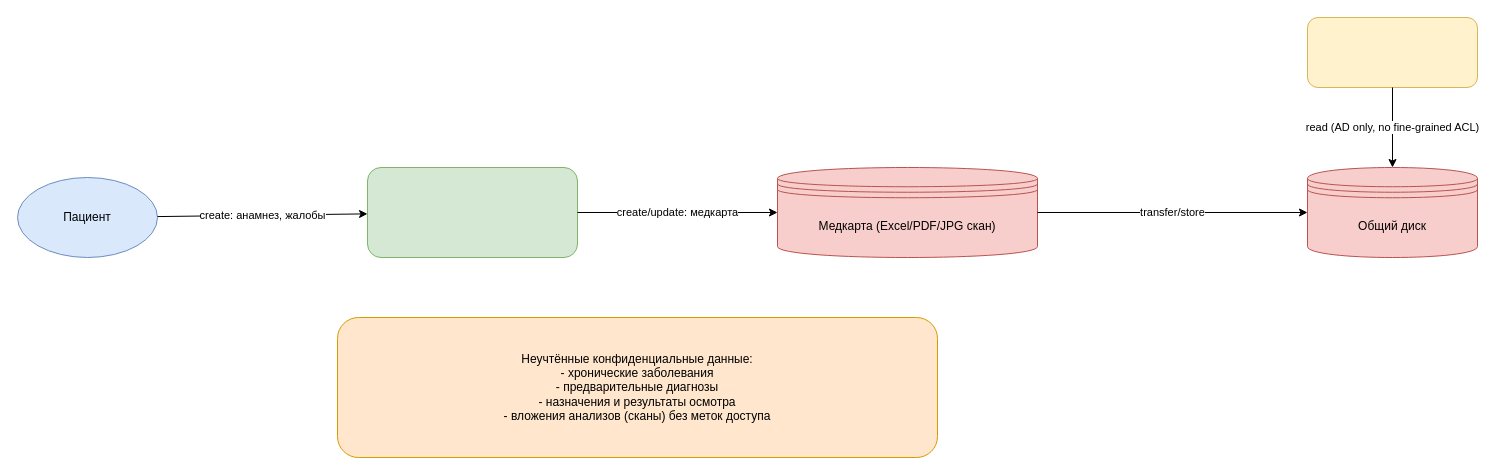
The diagram is 1496 pixels wide and 475 high, and some of its shapes have lost their labels. Here are the shapes that lost their labels. From the top down, the centre of each, then its label:
point 1392,52: ИТ/Админ домена
point 472,212: Медик (ручной ввод)
